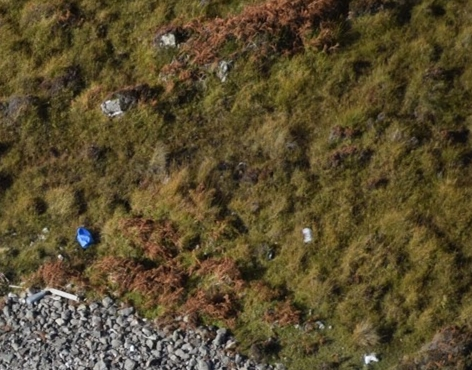straight_bar: (44, 282, 85, 305)
white_in_green: (55, 212, 114, 263)
